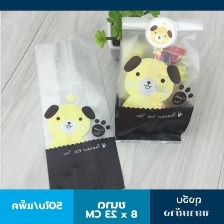snack: (28, 29, 134, 189), (106, 10, 211, 147)
